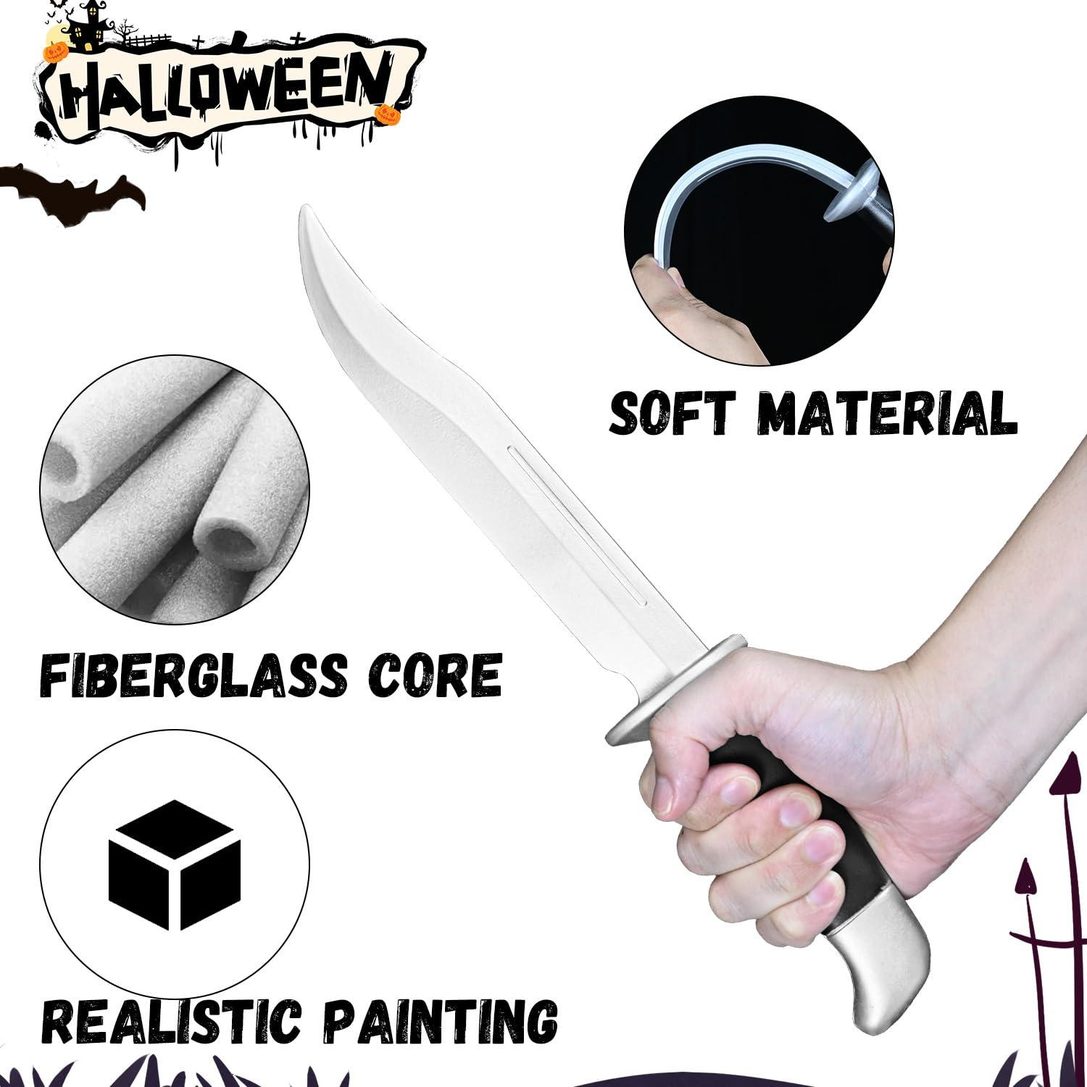Knife: (294, 203, 738, 746), (633, 445, 1087, 948), (638, 635, 981, 941)
